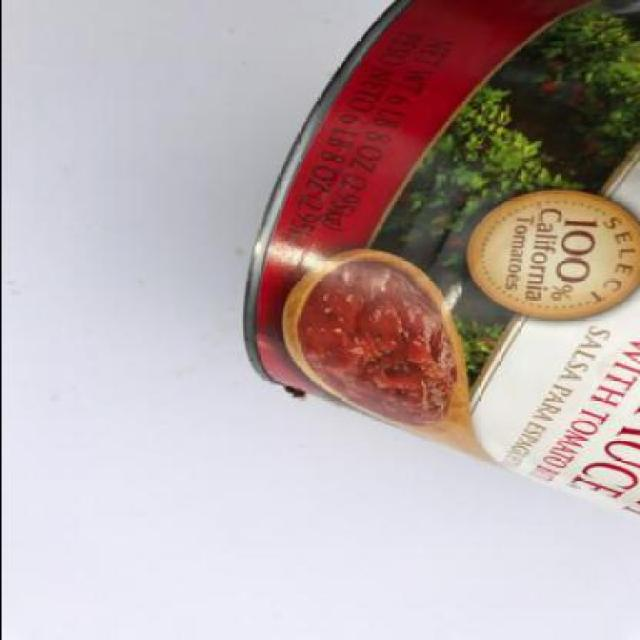METAL: (240, 1, 638, 518)
